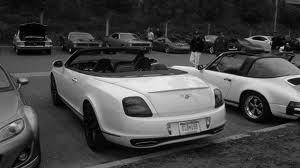car: (50, 44, 230, 156)
